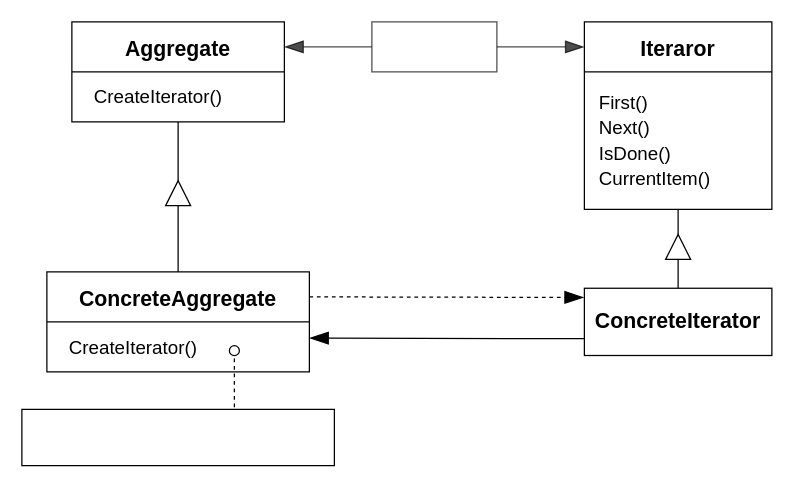
The diagram is 794 pixels wide and 488 high, and some of its shapes have lost their labels. Here are the shapes that lost their labels. From the top down, the centre of each, then its label:
point 434,46: Client
point 177,437: return new ConcreteIteratot(this)
